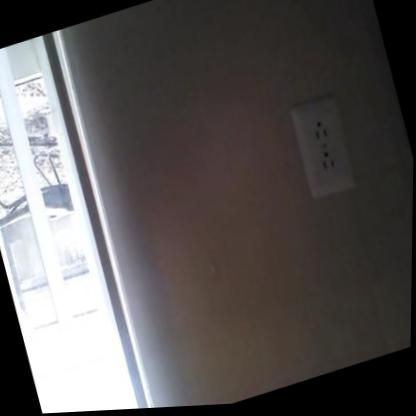OUTLET: (288, 92, 358, 201)
